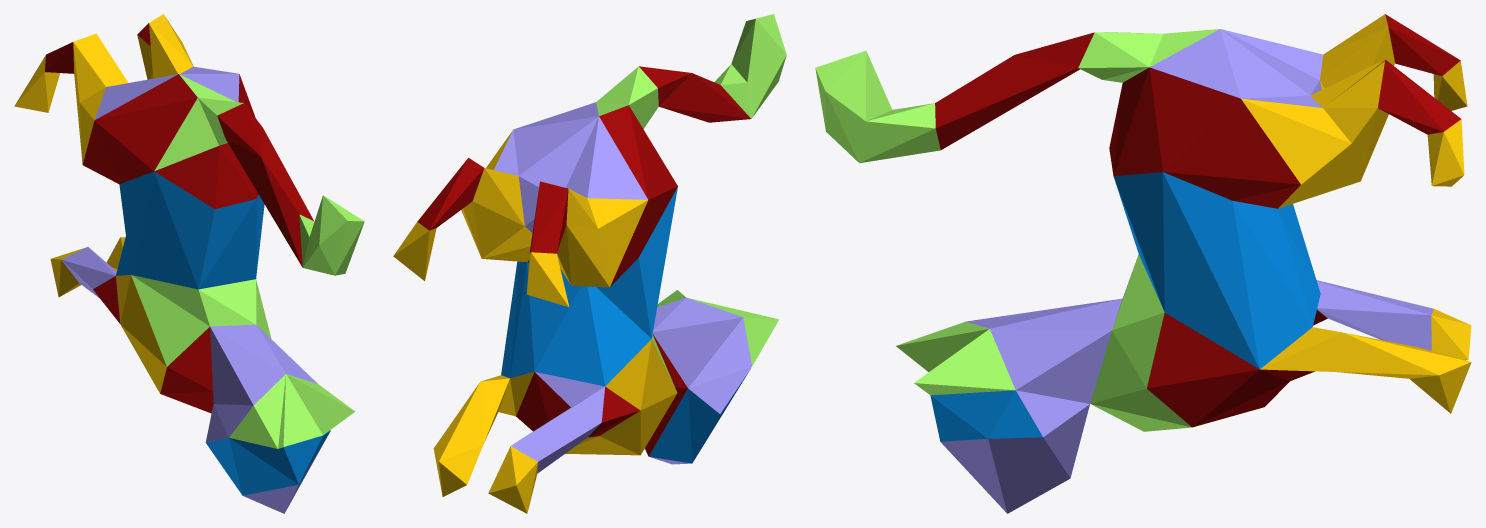
The model's file is chat234.obj.
3 renders of one model, left to right at view 1: azimuth 30°, elevation 25°; view 2: azimuth 150°, elevation 25°; view 3: azimuth 270°, elevation 25°, orthographic. The views are drawn at different scales.
Parts seen in each view (by area): view 1: STL_color_163_000_000, STL_color_163_254_102, STL_color_000_153_256, STL_color_163_153_256, STL_color_256_204_000; view 2: STL_color_256_204_000, STL_color_163_153_256, STL_color_000_153_256, STL_color_163_000_000, STL_color_163_254_102; view 3: STL_color_163_000_000, STL_color_163_153_256, STL_color_000_153_256, STL_color_163_254_102, STL_color_256_204_000.
Part boxes in pixels (box(x1,y1,x2,y2)): STL_color_163_000_000: box(45, 23, 313, 413); STL_color_163_254_102: box(131, 74, 364, 448); STL_color_000_153_256: box(116, 171, 330, 495); STL_color_163_153_256: box(61, 66, 328, 513); STL_color_256_204_000: box(14, 14, 193, 393); STL_color_256_204_000: box(393, 130, 677, 513); STL_color_163_153_256: box(494, 102, 752, 473); STL_color_000_153_256: box(501, 187, 750, 463); STL_color_163_000_000: box(417, 66, 750, 456); STL_color_163_254_102: box(596, 14, 786, 390); STL_color_163_000_000: box(935, 14, 1460, 427); STL_color_163_153_256: box(940, 29, 1433, 513); STL_color_000_153_256: box(930, 172, 1320, 441); STL_color_163_254_102: box(815, 29, 1219, 431); STL_color_256_204_000: box(1241, 14, 1471, 413).
Size of the model in its own units: 31.82 by 72.51 by 90.11.
